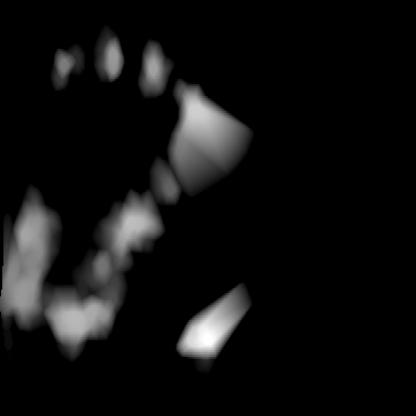fingers: (174, 282, 250, 361)
palm: (53, 37, 206, 197)
thumb: (1, 185, 161, 349)
